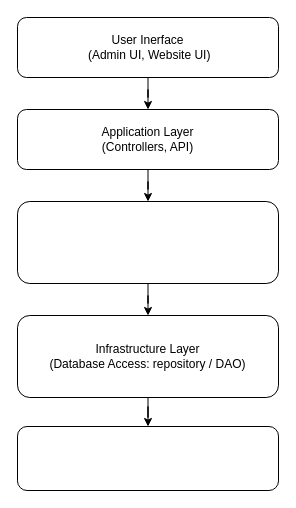
This 296x508 diagram has some shape labels left out. Each missing label, with the box of its shape:
Business Layer (Content Management, User Management, Plugin Manager): (16, 200, 278, 284)
Data Layer (Database): (16, 426, 278, 490)
